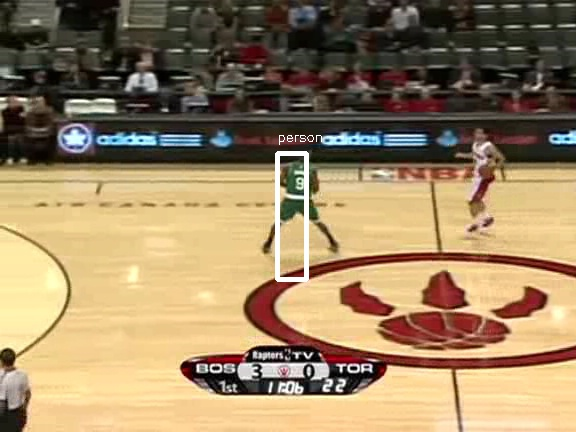person: (282, 153, 316, 234), (281, 153, 315, 234), (283, 153, 317, 234), (282, 152, 316, 233), (282, 154, 316, 235)
target_negative: (76, 170, 411, 413), (32, 13, 176, 345), (170, 188, 369, 289), (374, 218, 561, 319), (403, 374, 522, 429), (554, 379, 574, 422)
